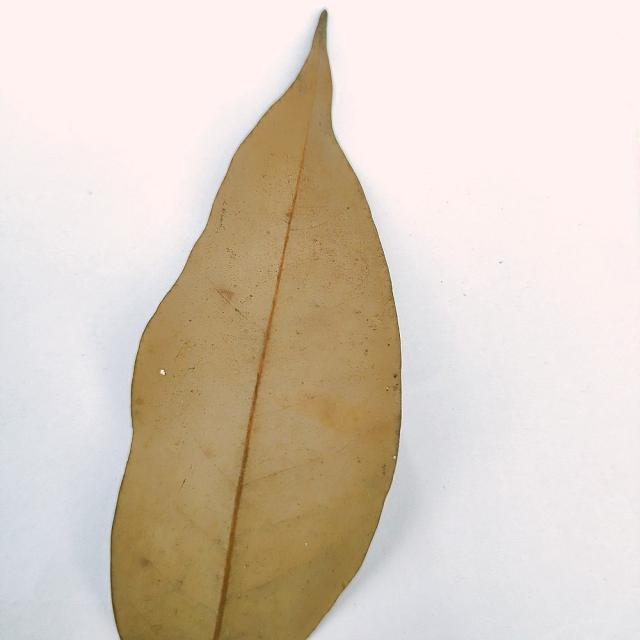Dry_Leaf-Lychee: (109, 13, 403, 639)
